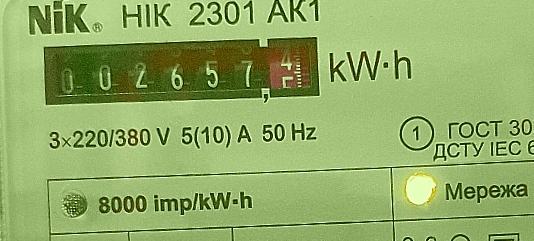0: (57, 65, 76, 94), (95, 60, 112, 91)
2: (131, 59, 149, 89)
4: (277, 44, 294, 70)
5: (203, 57, 220, 88), (279, 73, 295, 88)
6: (168, 60, 184, 90)
7: (239, 56, 255, 88)
screen: (32, 19, 332, 122)
